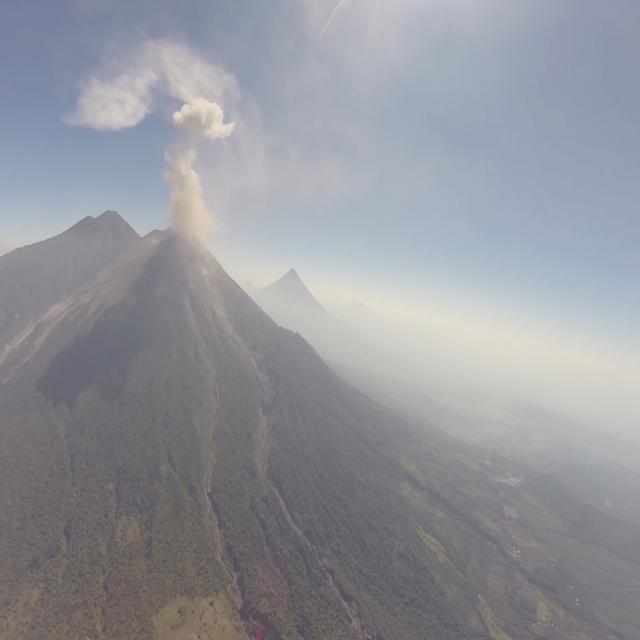Plume: (163, 140, 222, 242), (74, 57, 154, 131), (172, 96, 238, 145)
